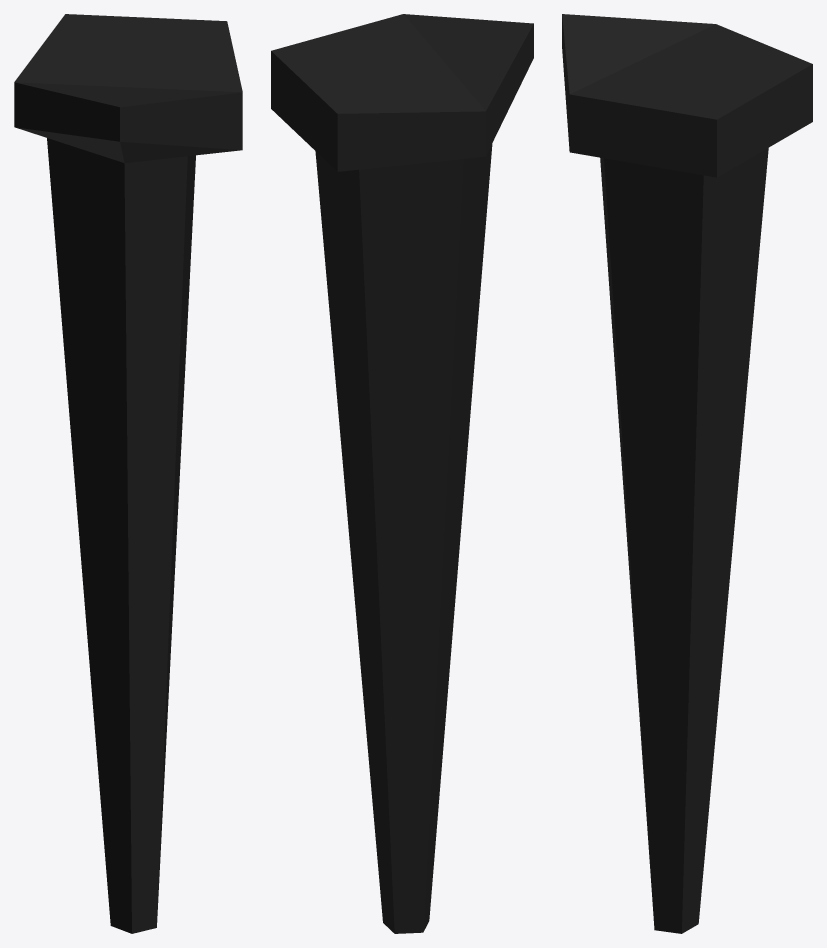
Rendered from nail01.gltf.
3 renders of one model, left to right at view 1: azimuth 30°, elevation 25°; view 2: azimuth 150°, elevation 25°; view 3: azimuth 270°, elevation 25°, orthographic.
Visible parts, largest first — view 1: Cube; view 2: Cube; view 3: Cube.
Boxes of the visible parts, x1,y1,x2,y2 form: Cube: (14,14,242,933); Cube: (271,14,533,933); Cube: (562,14,812,933).
Bounding box in the file's own units: 0.0241 × 0.0943 × 0.0245.
1 material, 1 textured.
